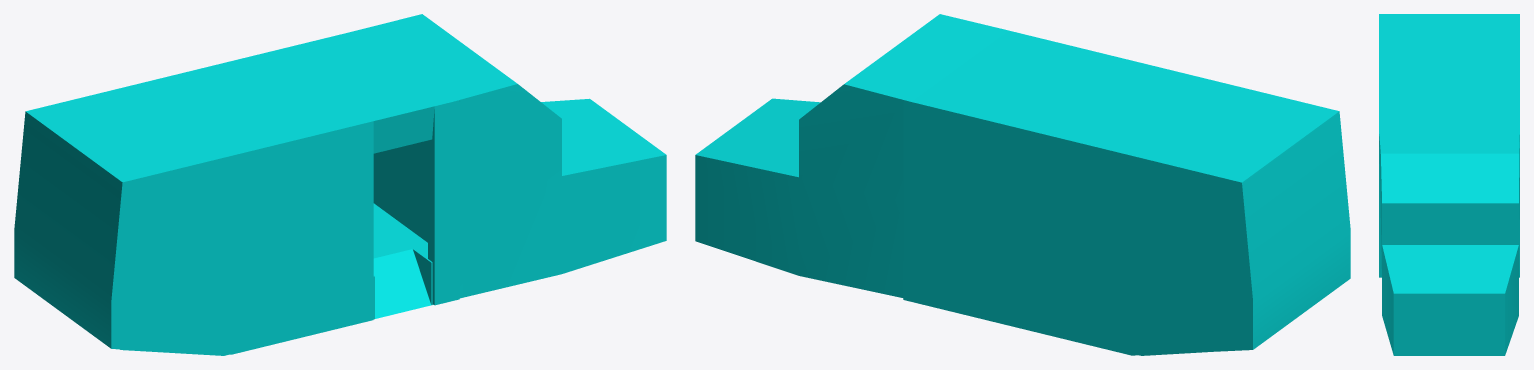
The model's file is SM_Bld_Camper_01_Collision.fbx.
3 views of the same model, side by side, from view 1: azimuth 30°, elevation 25°; view 2: azimuth 150°, elevation 25°; view 3: azimuth 270°, elevation 25° (orthographic). The views are drawn at different scales.
Visible parts, largest first — view 1: SM_Bld_Camper_01_Collision; view 2: SM_Bld_Camper_01_Collision; view 3: SM_Bld_Camper_01_Collision.
Boxes of the visible parts, x1,y1,x2,y2 form: SM_Bld_Camper_01_Collision: [14, 14, 666, 355]; SM_Bld_Camper_01_Collision: [695, 14, 1350, 355]; SM_Bld_Camper_01_Collision: [1379, 14, 1519, 355].
Size of the model in its own units: 791 by 270 by 235.
